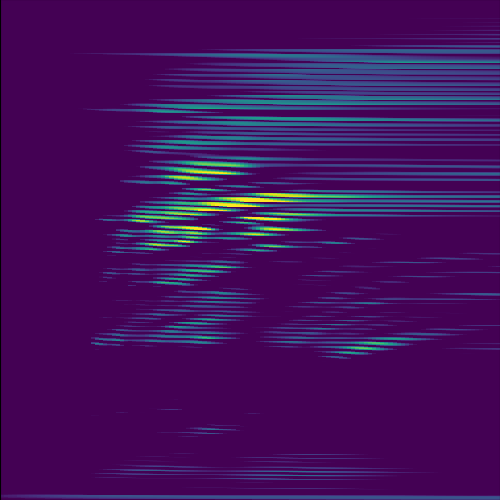semblance: (140, 191, 319, 222), (141, 157, 253, 184), (239, 214, 326, 240)
